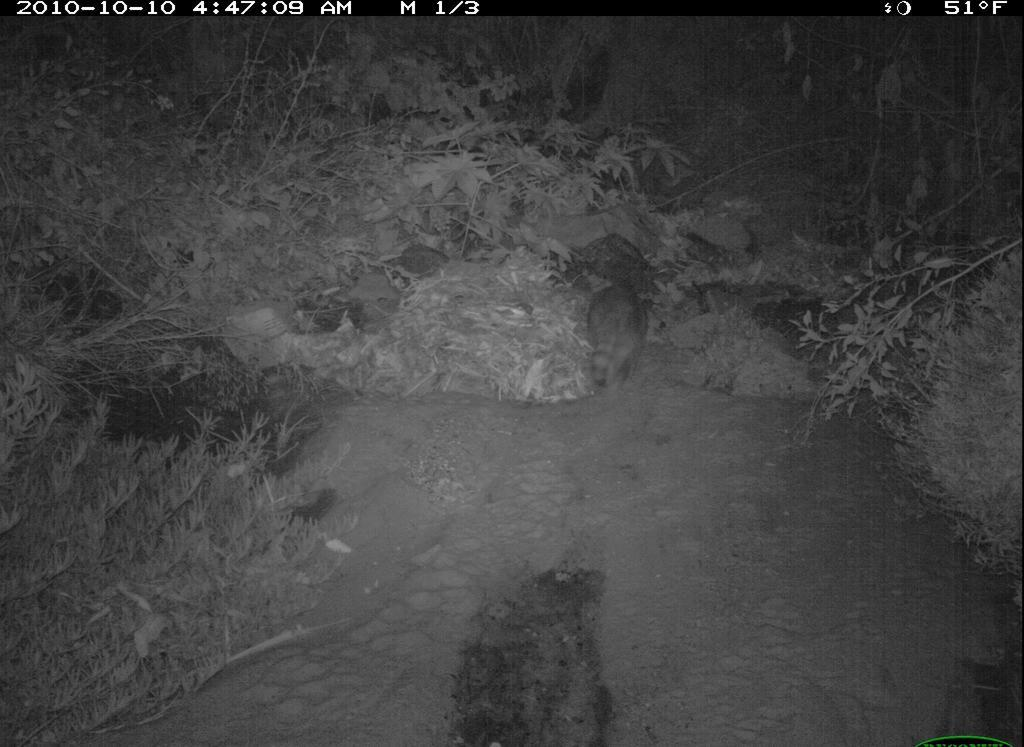raccoon: (577, 282, 661, 397)
